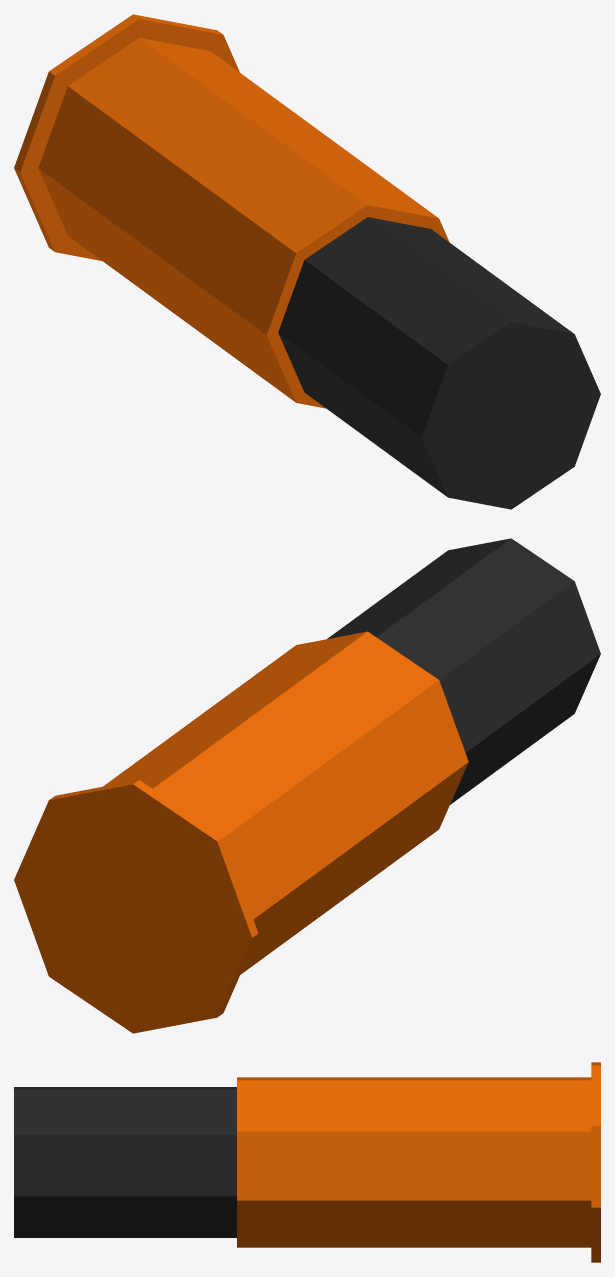
The model's file is ShotgunAmmo.fbx.
The picture shows the model from 3 angles, top to bottom: view 1: azimuth 30°, elevation 25°; view 2: azimuth 150°, elevation 25°; view 3: azimuth 270°, elevation 25°; orthographic projection. The views are drawn at different scales.
Visible parts, largest first — view 1: ShotgunAmmo; view 2: ShotgunAmmo; view 3: ShotgunAmmo.
Part boxes in pixels (left/top/right/bottom): ShotgunAmmo: left=14, top=14, right=600, bottom=509; ShotgunAmmo: left=14, top=538, right=600, bottom=1033; ShotgunAmmo: left=14, top=1062, right=600, bottom=1262.
Bounding box in the file's own units: 5.42 × 5.42 × 14.92.
